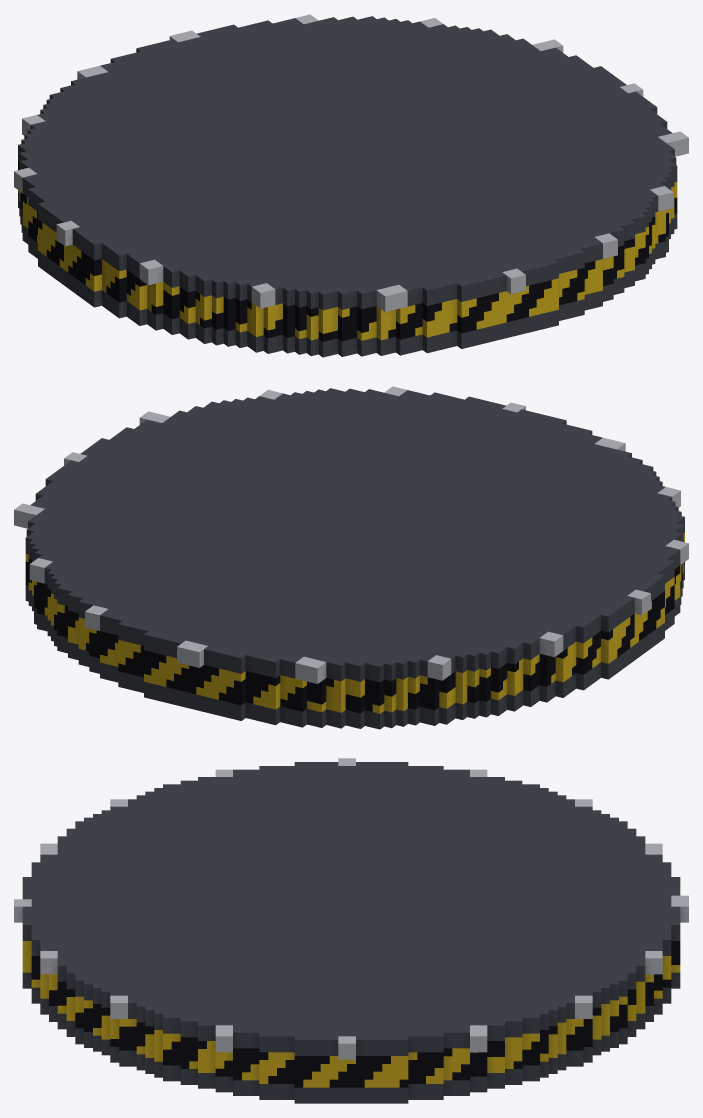
File: decoupler_l.glb
The picture shows the model from 3 angles, top to bottom: view 1: azimuth 30°, elevation 25°; view 2: azimuth 150°, elevation 25°; view 3: azimuth 270°, elevation 25°; orthographic projection.
Parts seen in each view (by area): view 1: decoupler_l; view 2: decoupler_l; view 3: decoupler_l.
Part boxes in pixels (<box>): decoupler_l: <box>14,14,688,357</box>; decoupler_l: <box>14,386,688,729</box>; decoupler_l: <box>14,758,688,1103</box>.
Size of the model in its own units: 3.85 by 0.4 by 3.85.
